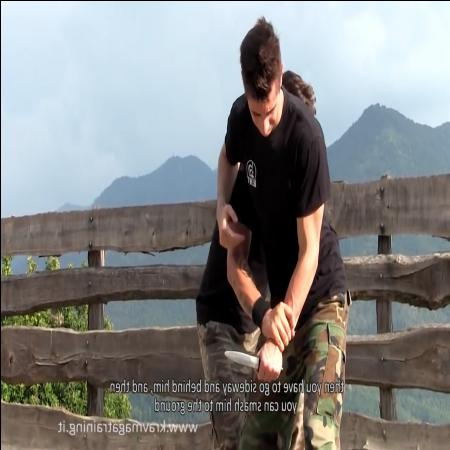long weapon: (219, 336, 285, 384)
